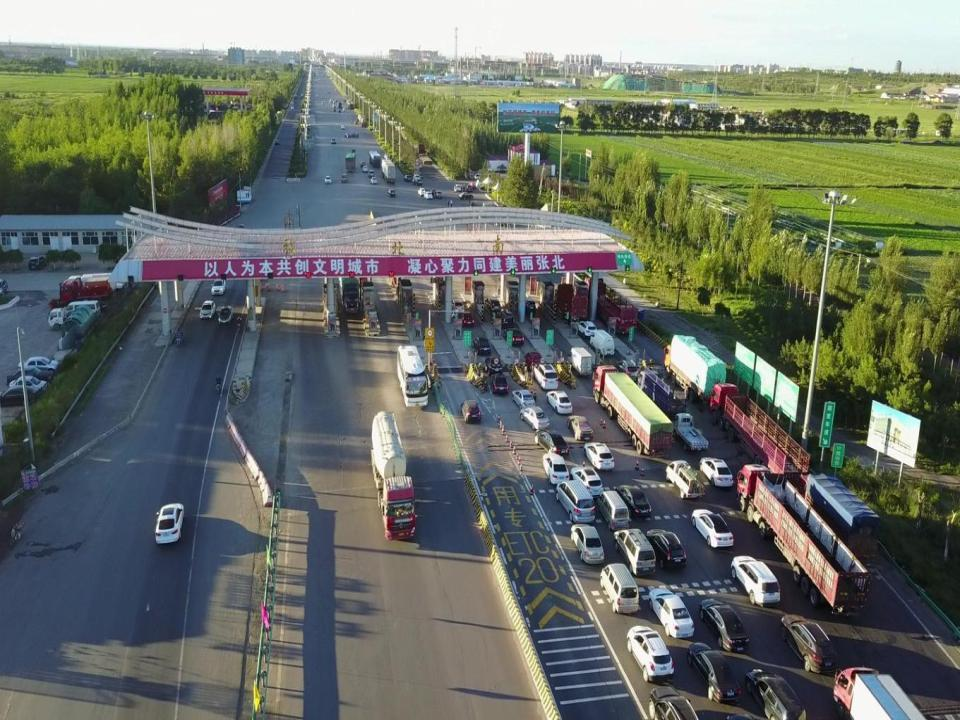bus: (396, 344, 430, 408)
car: (781, 614, 838, 672), (686, 642, 741, 702), (746, 667, 806, 720), (699, 599, 749, 652), (627, 625, 674, 681), (731, 556, 779, 606), (648, 588, 694, 638), (648, 686, 697, 720), (646, 529, 687, 569), (692, 509, 732, 547), (570, 522, 604, 564), (154, 502, 184, 543), (617, 487, 651, 518), (534, 430, 570, 458), (700, 456, 732, 487), (570, 467, 604, 496), (543, 452, 570, 484), (584, 442, 614, 470), (7, 367, 53, 384), (0, 386, 39, 406), (19, 356, 60, 375), (9, 376, 47, 395), (519, 407, 550, 429), (532, 364, 558, 390), (568, 415, 594, 440), (547, 391, 572, 414), (615, 360, 639, 382), (511, 389, 535, 410), (460, 400, 480, 423), (574, 321, 596, 339), (524, 351, 543, 371), (503, 328, 524, 346), (484, 357, 502, 376), (495, 310, 514, 328), (492, 373, 509, 393), (472, 336, 490, 354), (200, 299, 216, 318), (218, 305, 234, 324), (28, 254, 48, 267), (458, 310, 474, 326), (211, 278, 226, 294), (485, 296, 500, 312), (518, 298, 535, 312), (448, 300, 464, 314), (0, 278, 8, 296), (458, 192, 474, 199), (236, 224, 246, 234), (417, 186, 425, 196), (324, 175, 332, 184), (412, 174, 420, 183), (424, 191, 432, 199), (368, 169, 375, 177), (414, 178, 422, 185), (435, 190, 442, 198), (343, 132, 352, 138), (404, 174, 411, 181), (454, 184, 461, 191), (341, 174, 347, 182), (388, 189, 394, 197), (371, 176, 377, 184), (351, 132, 359, 137), (330, 137, 336, 143), (360, 161, 366, 167), (362, 166, 368, 172), (386, 155, 390, 161), (274, 139, 278, 144), (384, 153, 389, 157)
truck: (737, 464, 870, 616), (710, 382, 810, 485), (797, 470, 879, 564), (592, 366, 673, 458), (371, 410, 417, 540), (834, 666, 926, 720), (664, 335, 727, 403), (581, 277, 637, 333), (638, 363, 687, 423), (58, 278, 112, 310), (664, 459, 704, 500), (554, 283, 588, 326), (65, 273, 117, 300), (671, 413, 709, 448), (338, 267, 359, 311), (47, 308, 86, 329), (380, 160, 396, 184), (416, 144, 434, 165), (345, 152, 356, 172), (369, 150, 381, 168)
van: (614, 529, 655, 576), (600, 564, 639, 612), (556, 480, 594, 521), (597, 489, 629, 530), (567, 346, 591, 376), (590, 329, 614, 356), (66, 302, 101, 320), (351, 148, 355, 156)
